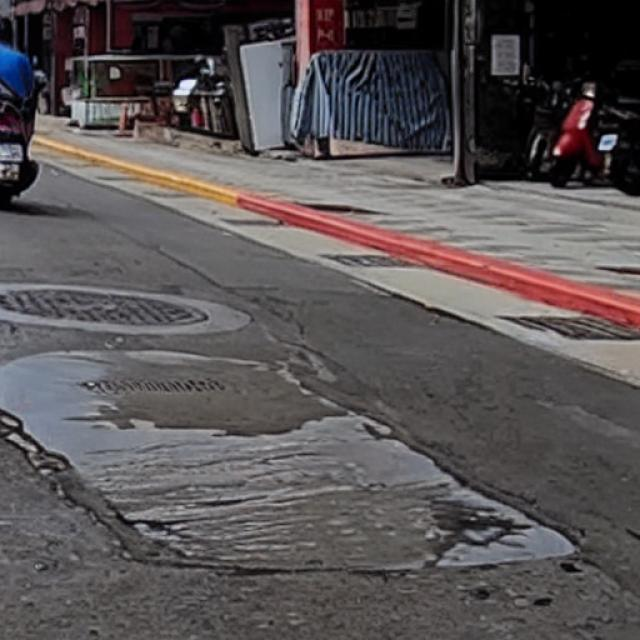puddle: (3, 353, 573, 567)
